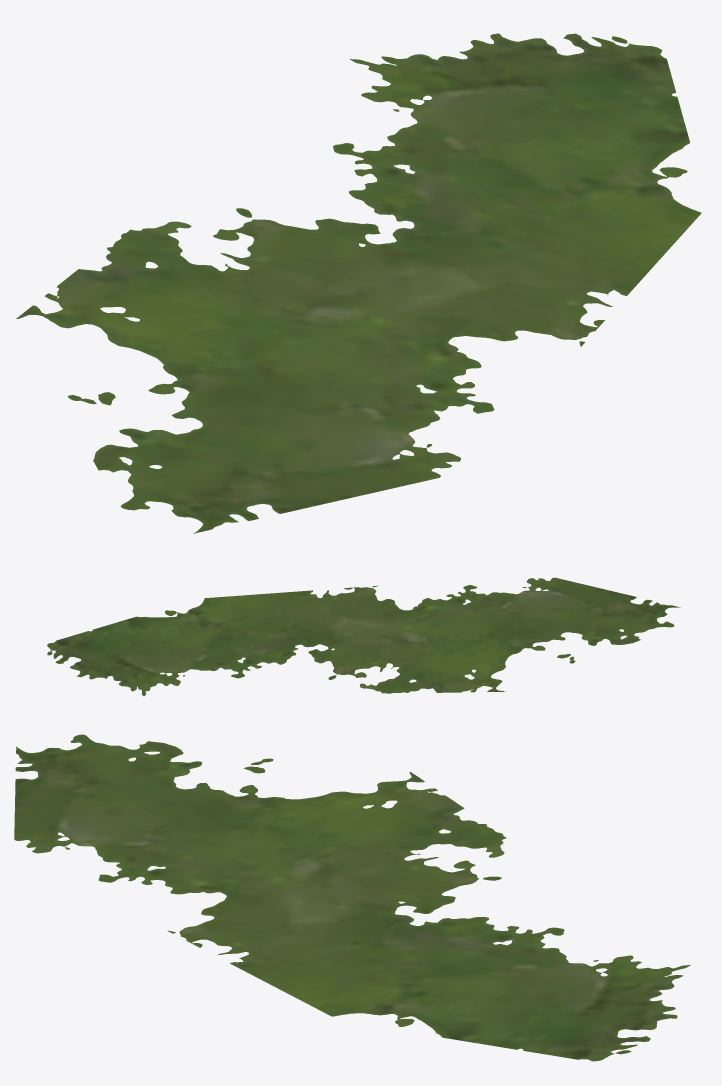
The model's file is dibiao_08.FBX.
3 renders of one model, top to bottom at view 1: azimuth 30°, elevation 25°; view 2: azimuth 150°, elevation 25°; view 3: azimuth 270°, elevation 25°, orthographic. The views are drawn at different scales.
Parts seen in each view (by area): view 1: dibiao_08; view 2: dibiao_08; view 3: dibiao_08.
Part boxes in pixels (bbox=[...]): dibiao_08: bbox=[16, 33, 701, 533]; dibiao_08: bbox=[47, 577, 680, 695]; dibiao_08: bbox=[14, 734, 690, 1061].
Size of the model in its own units: 339 by 3.94 by 287.
